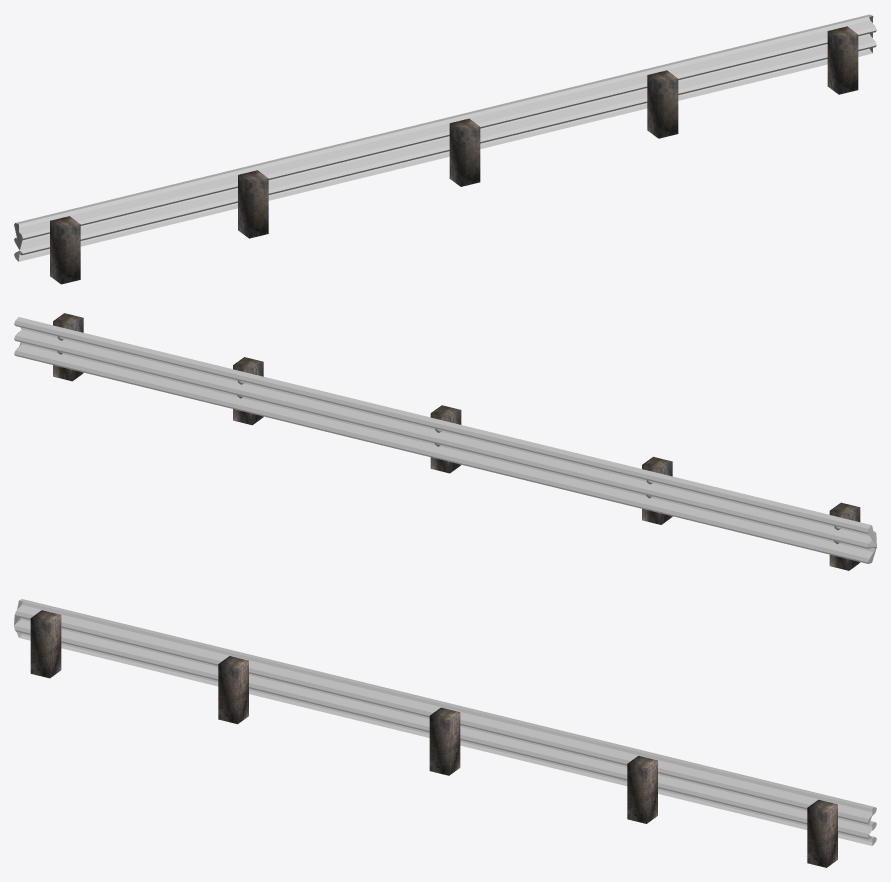
The model's file is roadrail_straight.fbx.
3 renders of one model, top to bottom at view 1: azimuth 30°, elevation 25°; view 2: azimuth 150°, elevation 25°; view 3: azimuth 330°, elevation 25°, orthographic.
Visible parts, largest first — view 1: rail, posts; view 2: rail, posts; view 3: rail, posts.
Boxes of the visible parts, x1,y1,x2,y2 form: rail: (14, 14, 876, 261); posts: (50, 26, 858, 284); rail: (14, 317, 876, 563); posts: (53, 313, 860, 570); rail: (14, 599, 876, 845); posts: (30, 610, 837, 867).
Size of the model in its own units: 10.99 by 0.6811 by 0.4496.
